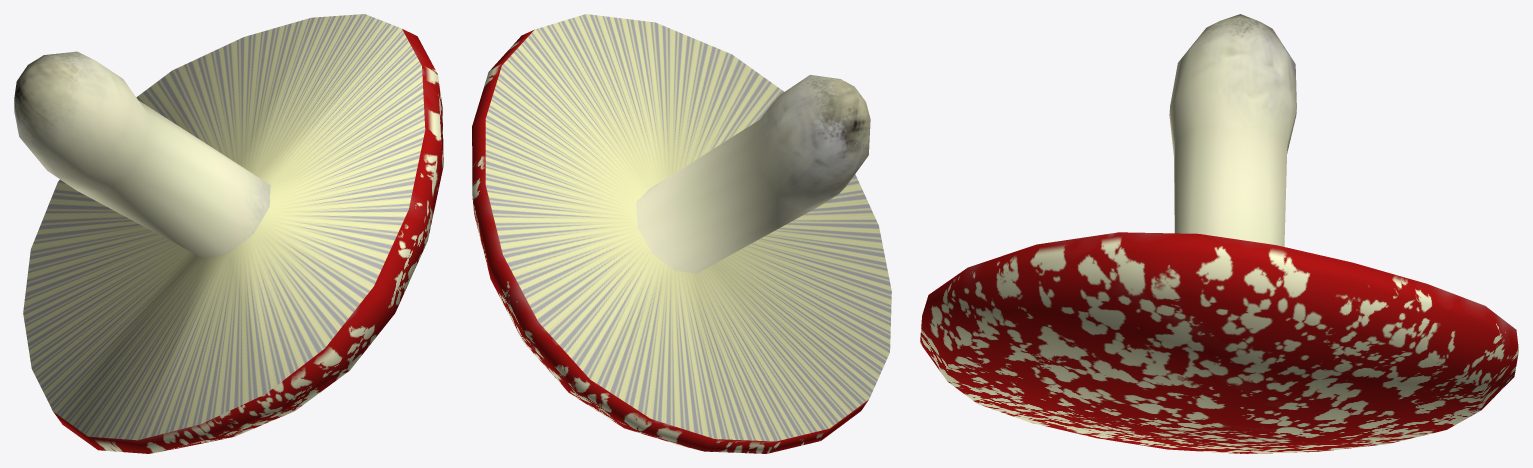
Rendered from right_arm.glb.
The picture shows the model from 3 angles, left to right: view 1: azimuth 30°, elevation 25°; view 2: azimuth 150°, elevation 25°; view 3: azimuth 270°, elevation 25°; orthographic projection. The views are drawn at different scales.
Visible parts, largest first — view 1: Mushroom 1; view 2: Mushroom 1; view 3: Mushroom 1.
Part boxes in pixels (x1,y1,x2,y2): Mushroom 1: (14,14,443,453); Mushroom 1: (472,14,891,453); Mushroom 1: (920,14,1518,453).
Bounding box in the file's own units: 0.7516 × 0.707 × 0.9308.
1 material, 1 textured.
